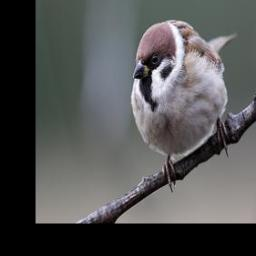Sparrow: (130, 18, 236, 191)
